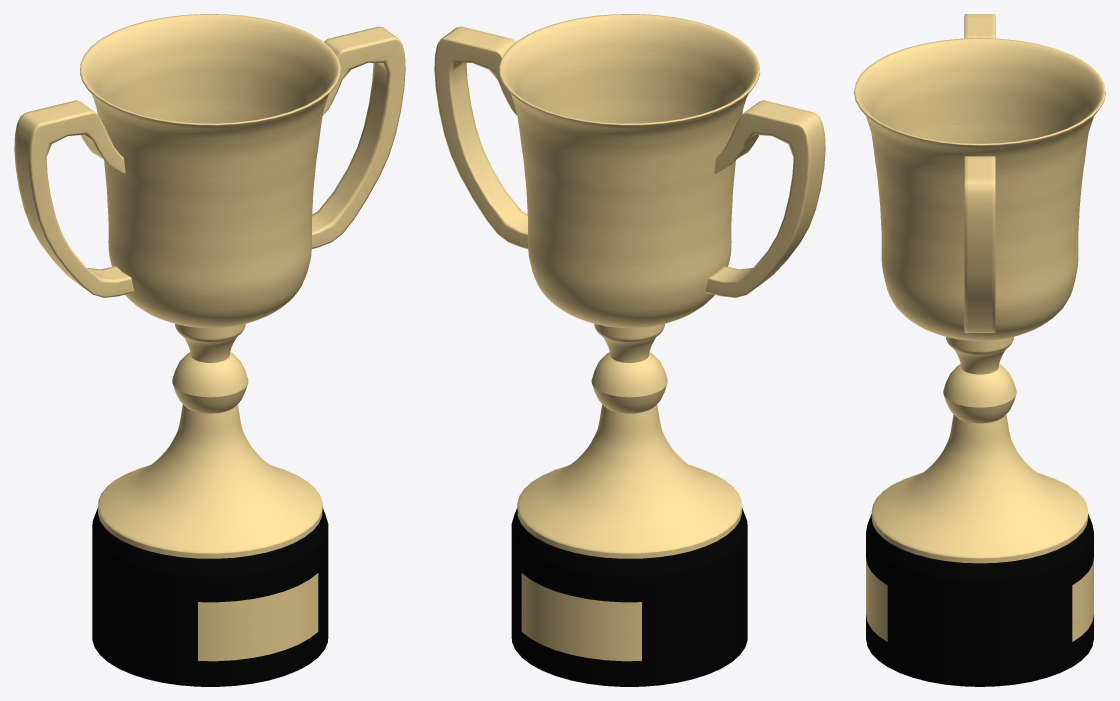
Rendered from cup.fbx.
The picture shows the model from 3 angles, left to right: view 1: azimuth 30°, elevation 25°; view 2: azimuth 150°, elevation 25°; view 3: azimuth 270°, elevation 25°; orthographic projection. The views are drawn at different scales.
Visible parts, largest first — view 1: pPipe1, pCylinder1, pCylinder2, pCube1, pCube3, pSphere1; view 2: pPipe1, pCylinder1, pCylinder2, pCube1, pCube3, pSphere1; view 3: pPipe1, pCylinder1, pCylinder2, pCube1, pSphere1, pCube3.
Boxes of the visible parts, bbox=[...] form: pPipe1: bbox=[79, 14, 340, 327]; pCylinder1: bbox=[92, 508, 328, 686]; pCylinder2: bbox=[98, 324, 322, 558]; pCube1: bbox=[311, 26, 405, 248]; pCube3: bbox=[14, 100, 133, 297]; pSphere1: bbox=[172, 352, 248, 413]; pPipe1: bbox=[499, 14, 760, 327]; pCylinder1: bbox=[511, 508, 747, 686]; pCylinder2: bbox=[517, 324, 741, 558]; pCube1: bbox=[434, 26, 528, 248]; pCube3: bbox=[706, 100, 825, 297]; pSphere1: bbox=[591, 352, 667, 413]; pPipe1: bbox=[854, 38, 1105, 340]; pCylinder1: bbox=[866, 514, 1093, 686]; pCylinder2: bbox=[871, 337, 1088, 563]; pCube1: bbox=[964, 156, 995, 332]; pSphere1: bbox=[943, 364, 1016, 423]; pCube3: bbox=[964, 14, 995, 38].
Bounding box in the file's own units: 6.59 × 9.54 × 3.97.
Materials: 6 (6 with a texture image).
